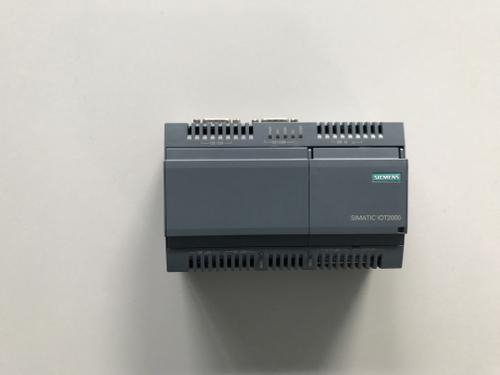device: (164, 119, 409, 273)
